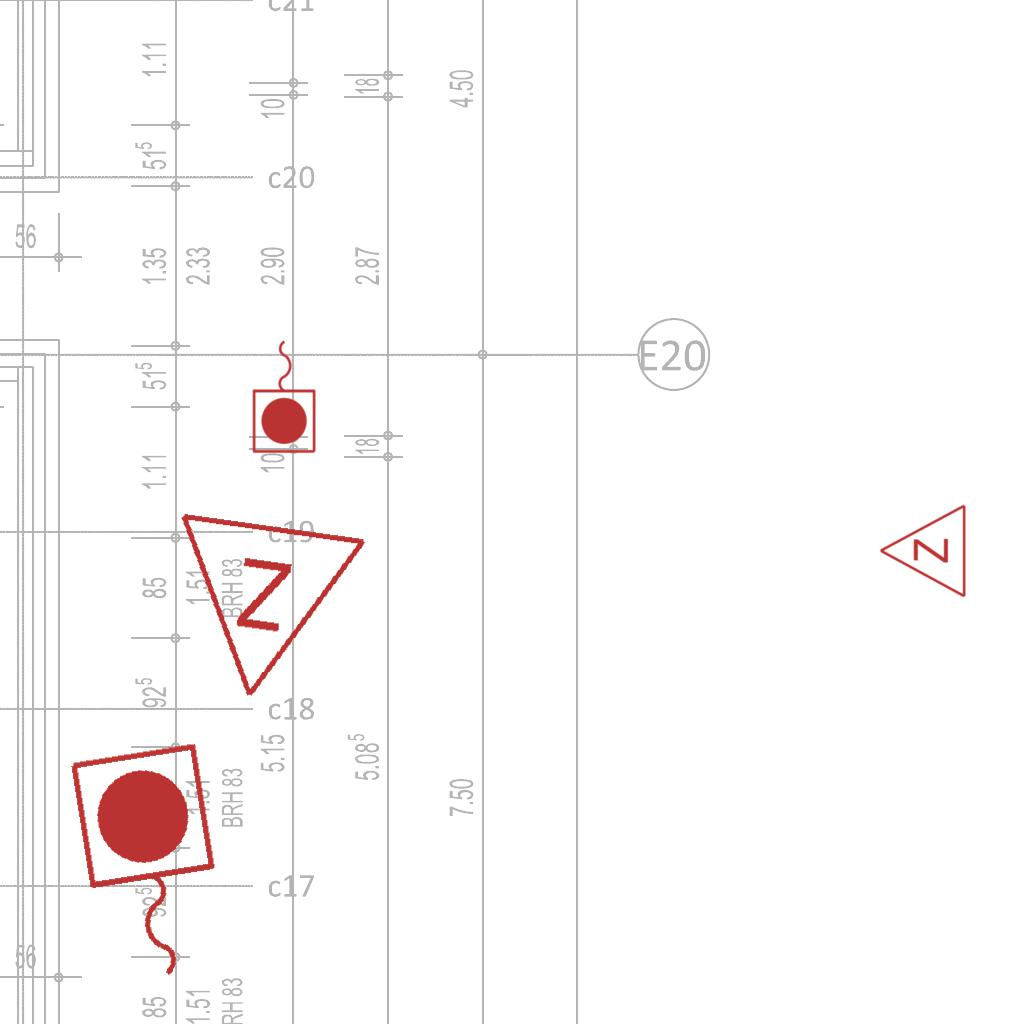Zimmersignalleuchte: (153, 498, 375, 724), (873, 503, 973, 601)
Zugtaster: (58, 734, 240, 998), (249, 335, 321, 457)
